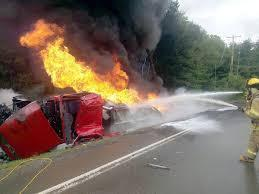fire: (26, 23, 165, 108)
